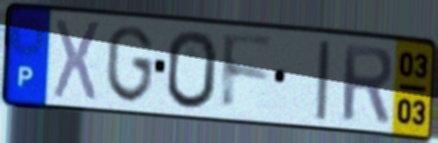F: (219, 29, 276, 115)
G: (104, 23, 155, 106)
I: (313, 38, 333, 123)
O: (165, 27, 220, 112)
R: (340, 40, 396, 125)
X: (50, 16, 104, 106)
